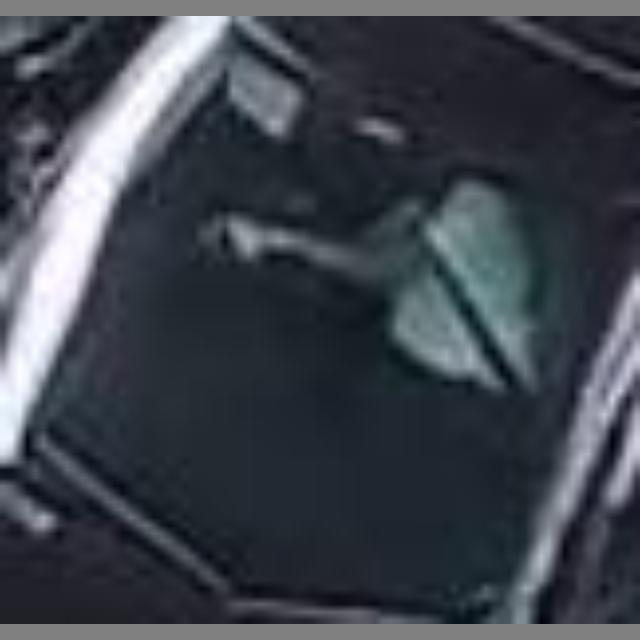pakai: (205, 158, 537, 372)
